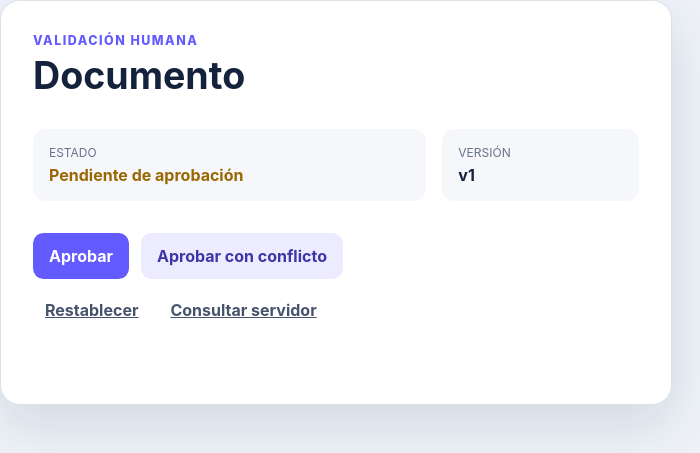
Test case: DocumentApprovalCard › removes optimistic approval and adopts the authoritative 412 snapshot
Expected: the text "Pendiente de aprobación" is shown, [49,165,243,185]
Click the button "Aprobar con conflicto" at [242, 256], box [141,233,343,279]
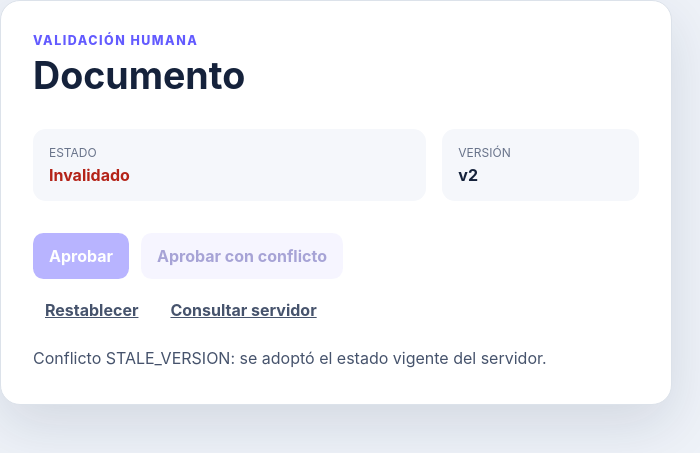
Now the text "Invalidado" is shown, box [49,165,130,185]
Now the message shows "STALE_VERSION", box [33,348,547,368]
Now the text with test id "document-version" reads "v2", box [458,165,478,185]
